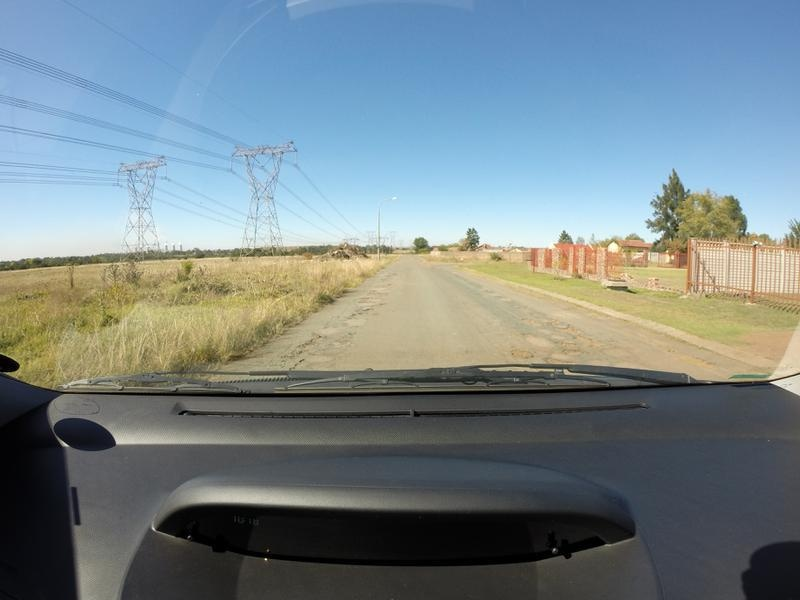pothole: (288, 331, 318, 356), (677, 350, 710, 366), (526, 332, 554, 345), (562, 319, 582, 332), (510, 349, 535, 356), (519, 314, 538, 323), (294, 361, 311, 368), (566, 347, 581, 354), (363, 304, 376, 311), (603, 345, 617, 351), (359, 296, 376, 299), (344, 332, 355, 336)
